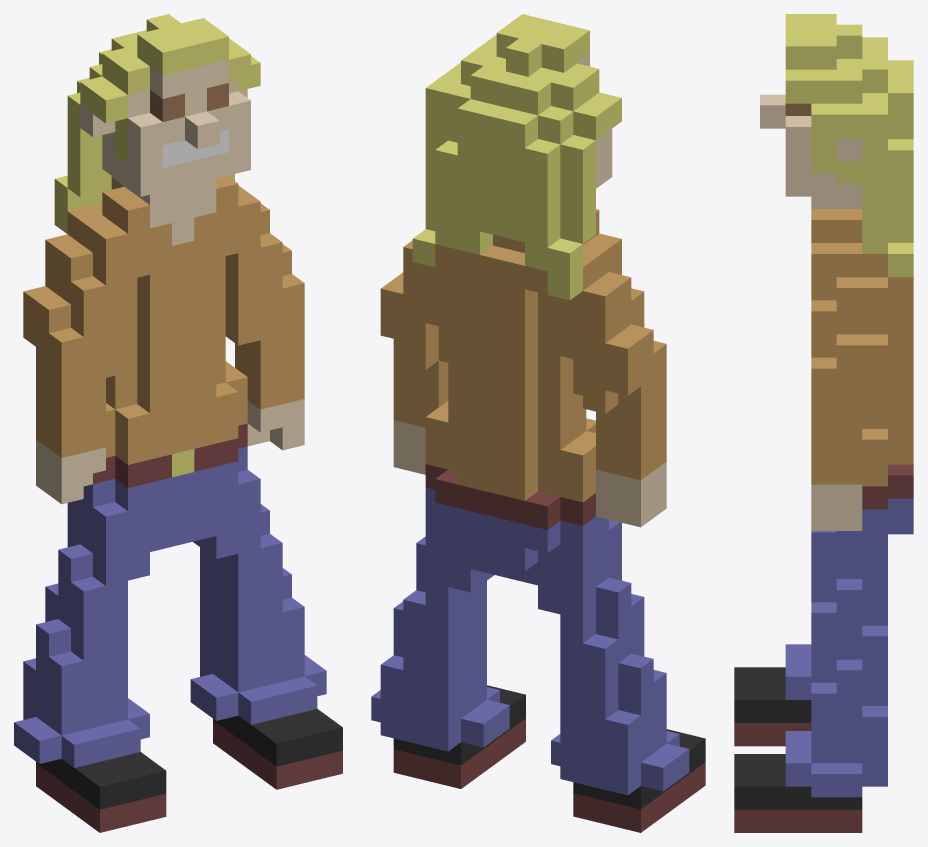
Rendered from man5_v1.fbx.
The picture shows the model from 3 angles, left to right: view 1: azimuth 30°, elevation 25°; view 2: azimuth 150°, elevation 25°; view 3: azimuth 270°, elevation 25°; orthographic projection.
Parts seen in each view (by area): view 1: man5; view 2: man5; view 3: man5.
Boxes of the visible parts, x1,y1,x2,y2 form: man5: (14,14,342,832); man5: (371,14,705,832); man5: (734,14,913,832).
Bounding box in the file's own units: 13 × 32 × 7.
